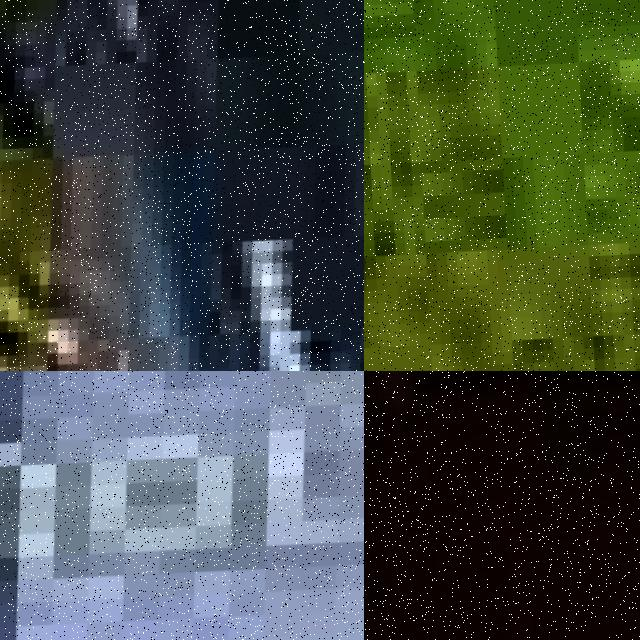0: (0, 0, 364, 371)
drone: (0, 371, 364, 640), (364, 371, 640, 640)
